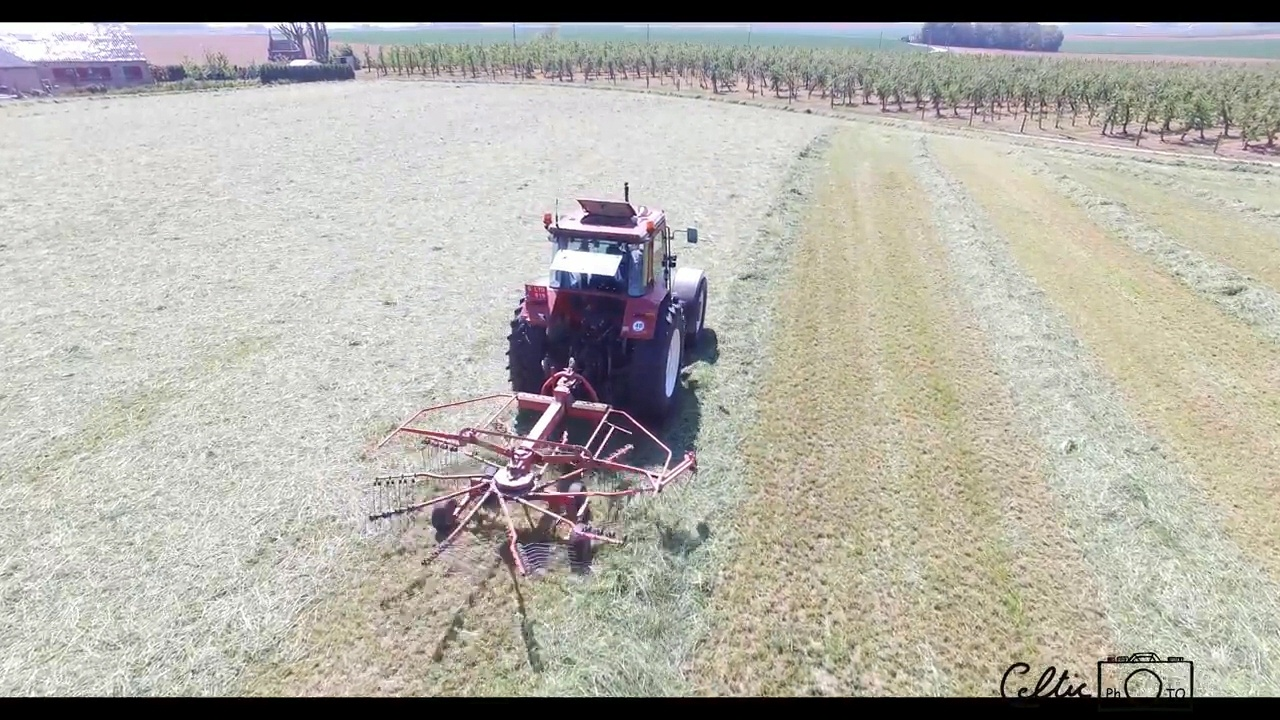traktor: (507, 179, 715, 419)
